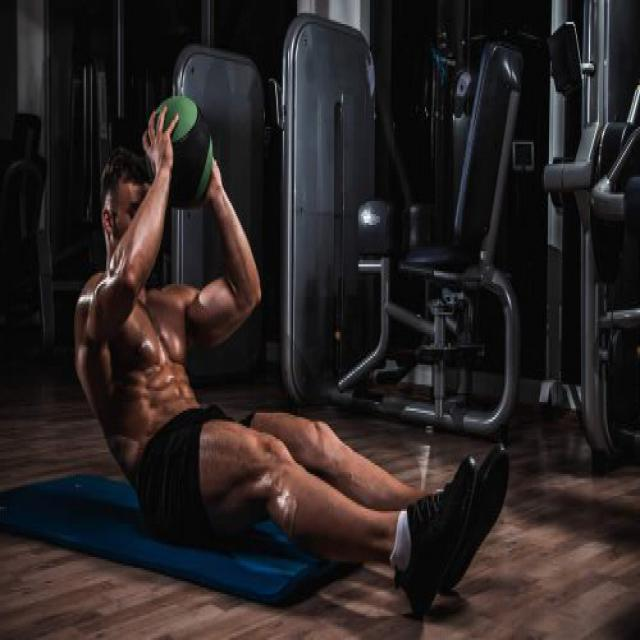Ball: (140, 88, 220, 220)
